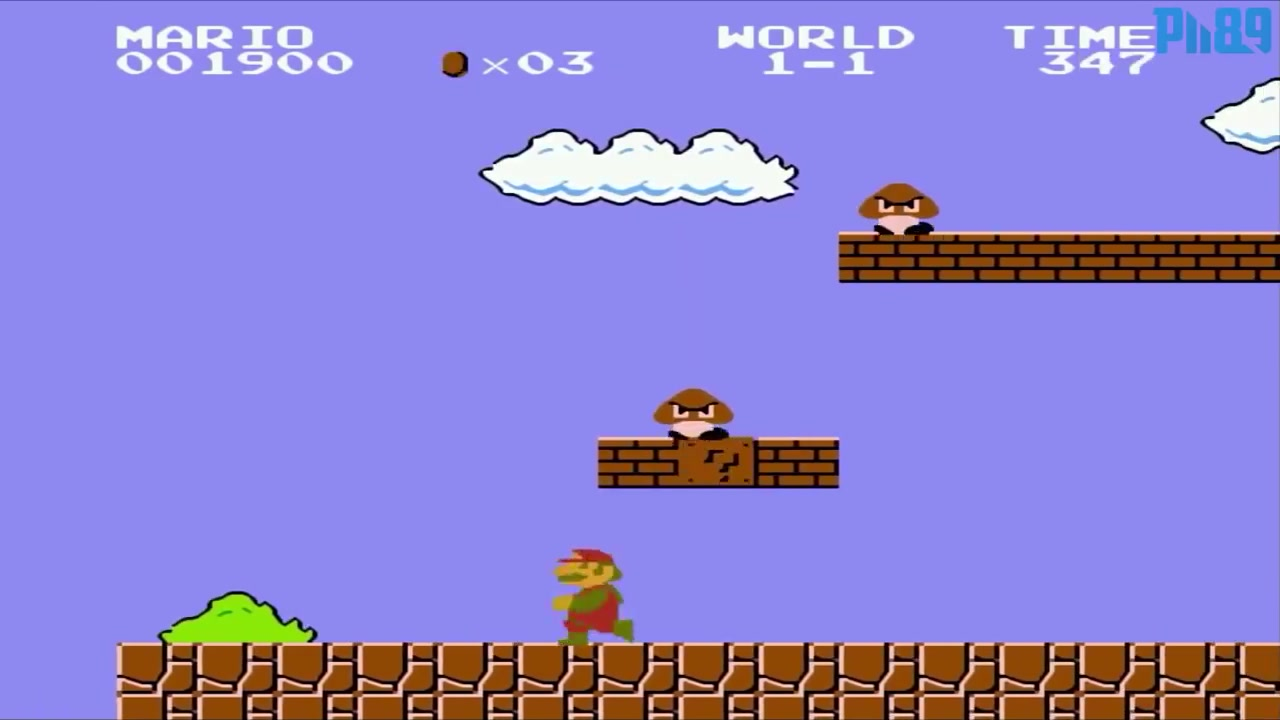mario: (541, 541, 639, 645)
